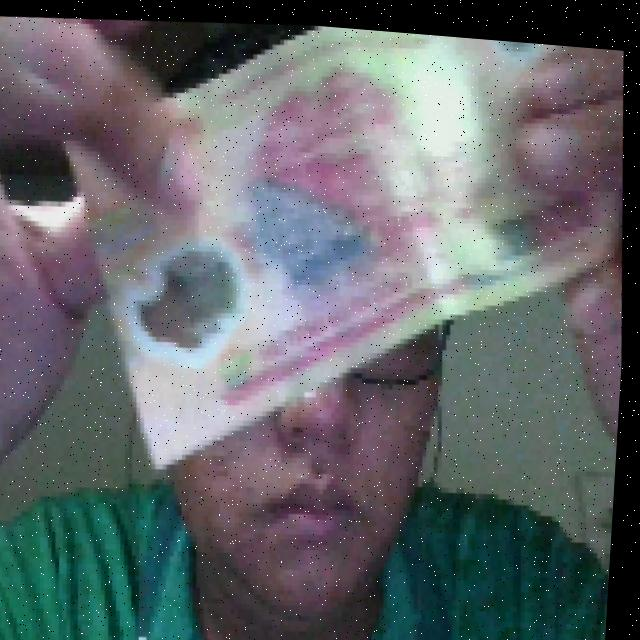200 000 VND: (53, 5, 640, 504)
